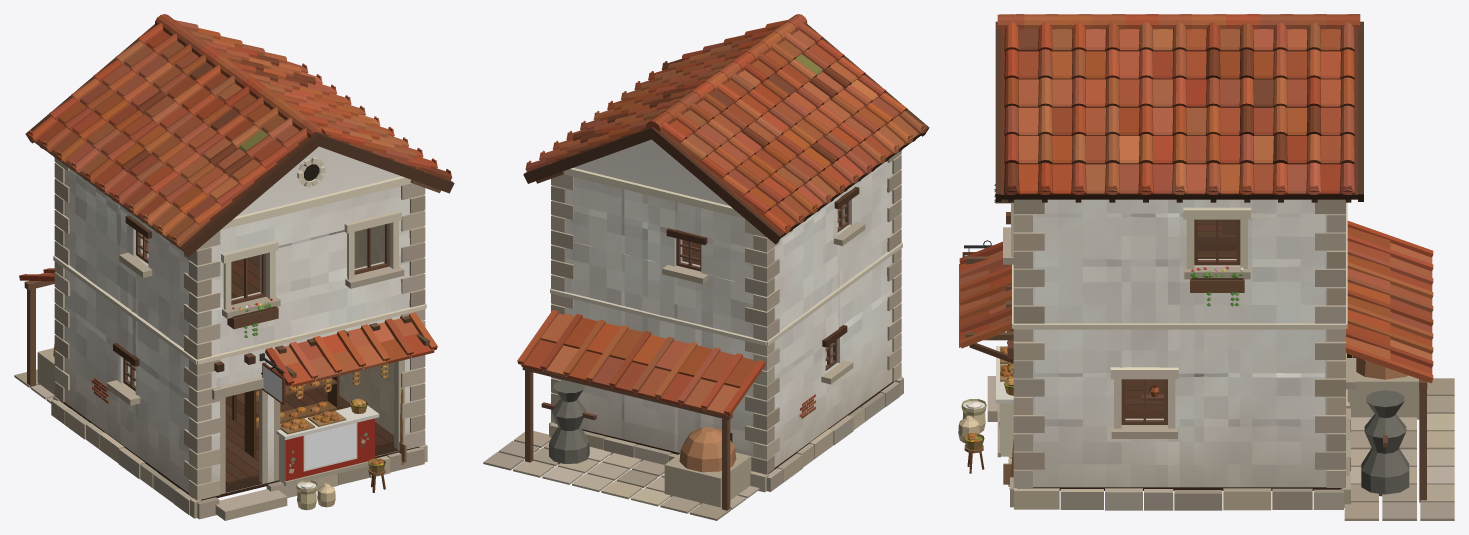
Rendered from shop_bakery.glb.
The picture shows the model from 3 angles, left to right: view 1: azimuth 30°, elevation 25°; view 2: azimuth 150°, elevation 25°; view 3: azimuth 270°, elevation 25°; orthographic projection. The views are drawn at different scales.
Parts seen in each view (by area): view 1: House, Walls, Rooms; view 2: House, Walls; view 3: House, Walls, Rooms.
Part boxes in pixels (bbox=[...]): House: bbox=[14, 14, 454, 520]; Walls: bbox=[64, 146, 421, 492]; Rooms: bbox=[134, 225, 394, 484]; House: bbox=[483, 14, 929, 520]; Walls: bbox=[554, 139, 892, 467]; House: bbox=[958, 14, 1454, 520]; Walls: bbox=[1016, 199, 1342, 487]; Rooms: bbox=[1125, 219, 1236, 418].
Size of the model in its own units: 4.45 by 5.63 by 5.91.
Materials: 7 (7 with a texture image).
